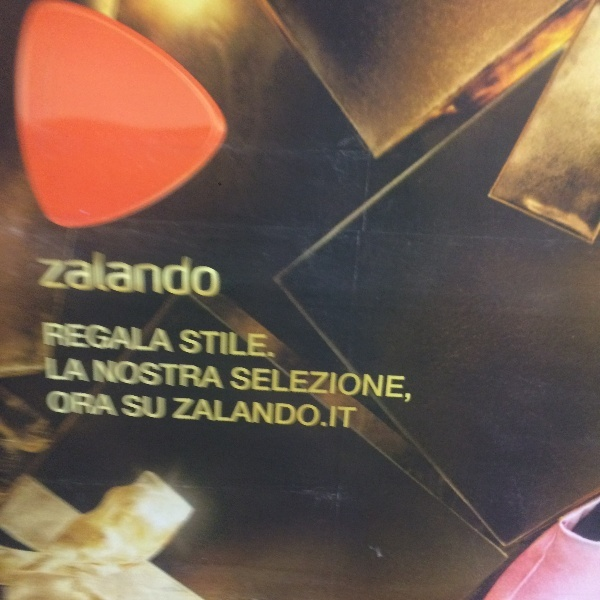text: (49, 248, 64, 297), (65, 248, 80, 297), (81, 248, 96, 297), (97, 248, 112, 297), (113, 248, 128, 297), (129, 248, 144, 297), (145, 248, 160, 297), (161, 248, 176, 297), (177, 248, 192, 297), (193, 248, 208, 297), (209, 248, 221, 297), (241, 365, 256, 403), (257, 365, 272, 403), (273, 365, 288, 403), (289, 365, 304, 403), (305, 365, 320, 403), (321, 365, 336, 403), (337, 365, 352, 403), (353, 365, 368, 403), (369, 365, 384, 403), (385, 365, 400, 403), (177, 396, 192, 430), (193, 396, 208, 430), (209, 396, 224, 430), (225, 396, 240, 430), (241, 396, 256, 430), (257, 396, 272, 430), (273, 396, 288, 430), (289, 396, 304, 430), (305, 396, 320, 430), (321, 396, 336, 430), (337, 396, 352, 430), (38, 248, 48, 297), (193, 328, 208, 360), (209, 328, 224, 360), (225, 328, 240, 360), (241, 328, 256, 360), (257, 328, 272, 360), (209, 360, 225, 390), (49, 322, 64, 353), (65, 322, 80, 353), (81, 322, 96, 353), (97, 322, 112, 353), (113, 322, 128, 353), (129, 322, 144, 353), (145, 322, 160, 353), (97, 360, 112, 390), (113, 360, 128, 390), (129, 360, 144, 390), (145, 360, 160, 390), (161, 360, 176, 390), (177, 360, 192, 390), (193, 360, 208, 390), (49, 389, 64, 417), (65, 389, 80, 417), (81, 389, 96, 417), (97, 389, 112, 417), (401, 365, 412, 403), (161, 322, 174, 353), (49, 356, 64, 382), (65, 356, 80, 382), (129, 393, 144, 419), (145, 393, 160, 419), (180, 328, 192, 360), (231, 365, 240, 403), (81, 356, 90, 382), (42, 322, 48, 353), (353, 396, 358, 430), (113, 389, 119, 417), (122, 393, 128, 419), (161, 393, 166, 419), (92, 360, 96, 390), (173, 396, 176, 430), (45, 356, 48, 382), (273, 328, 275, 360), (47, 389, 48, 417)
